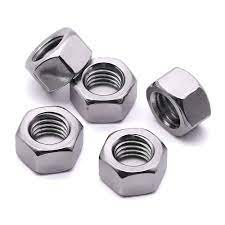Thread: (95, 129, 160, 175), (80, 55, 132, 108), (23, 109, 76, 148), (147, 87, 186, 135), (25, 30, 70, 70)
